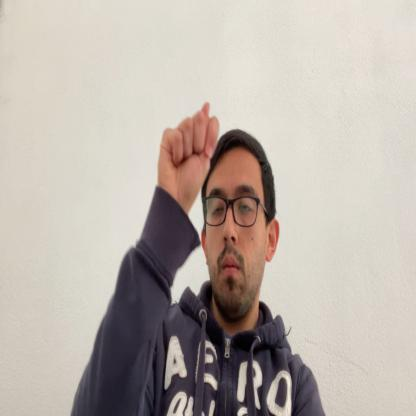T: (155, 99, 219, 203)
